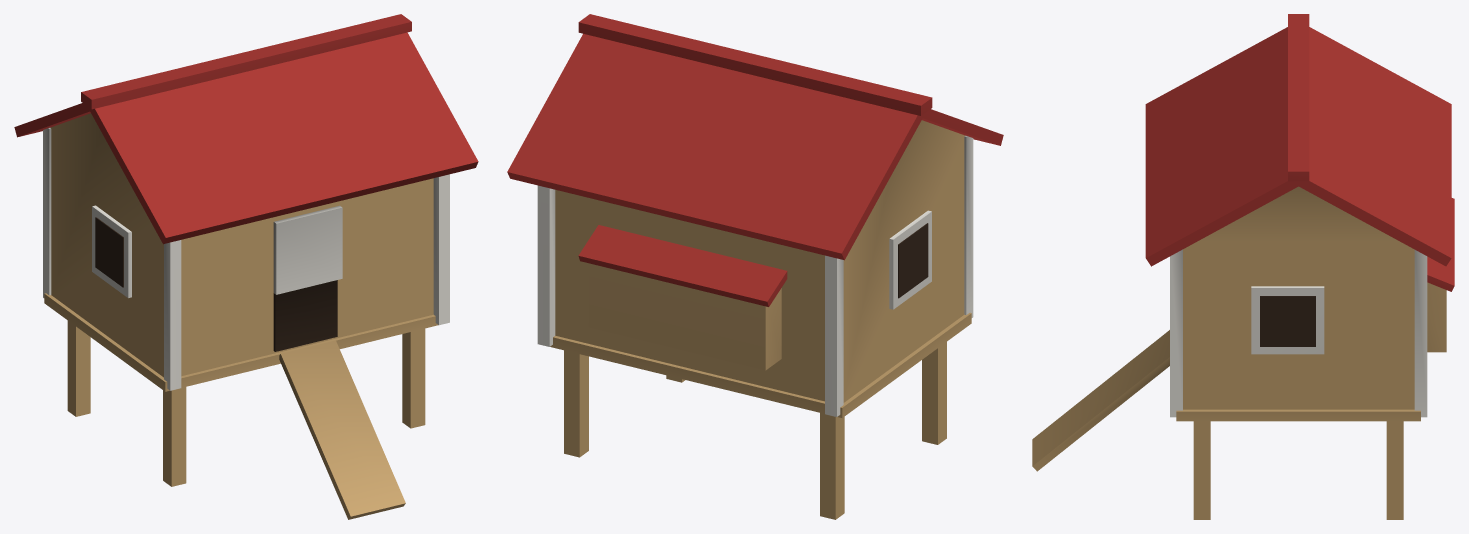
The model's file is coop.far.glb.
The picture shows the model from 3 angles, left to right: view 1: azimuth 30°, elevation 25°; view 2: azimuth 150°, elevation 25°; view 3: azimuth 270°, elevation 25°; orthographic projection. The views are drawn at different scales.
Visible parts, largest first — view 1: coop_far; view 2: coop_far; view 3: coop_far.
Part boxes in pixels (x1,y1,x2,y2): coop_far: (14, 14, 478, 519); coop_far: (507, 14, 1003, 519); coop_far: (1032, 14, 1454, 519).
Bounding box in the file's own units: 1.74 × 1.88 × 1.97.
